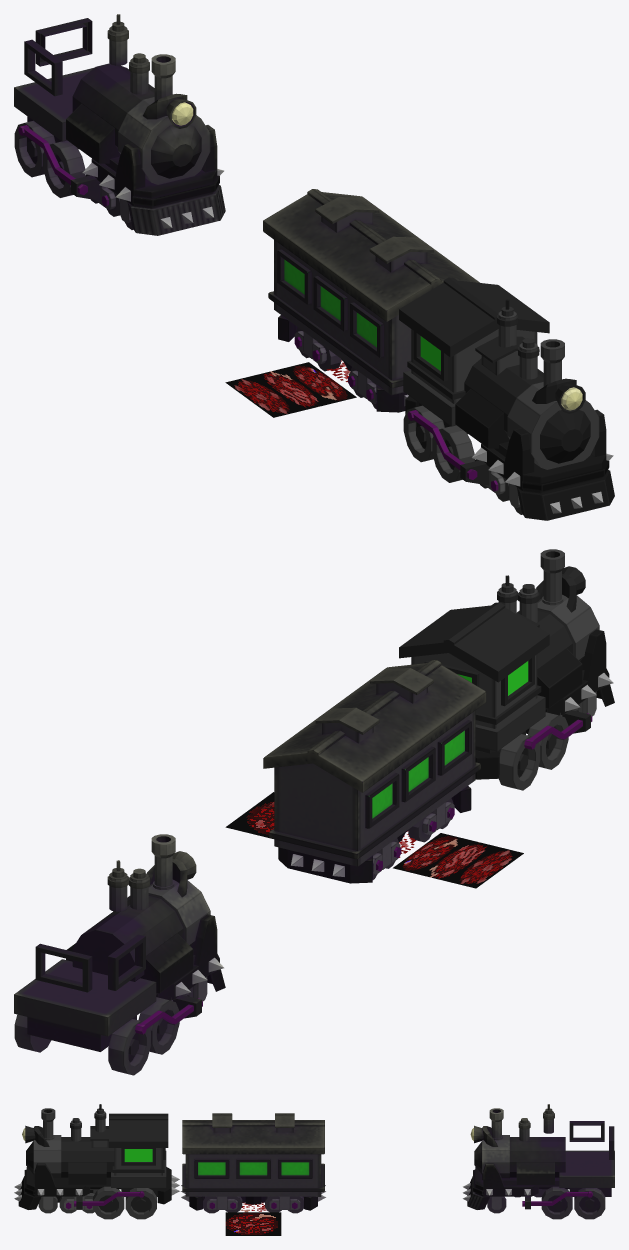
File: GhostTrainCarriageModel.fbx
The picture shows the model from 3 angles, top to bottom: view 1: azimuth 30°, elevation 25°; view 2: azimuth 150°, elevation 25°; view 3: azimuth 270°, elevation 25°; orthographic projection. The views are drawn at different scales.
Parts seen in each view (by area): view 1: cylinder, MDL_GhostTrain, MDL_GhostTrainCarriage, plane; view 2: MDL_GhostTrainCarriage, MDL_GhostTrain, cylinder, plane, plane_2; view 3: cylinder, MDL_GhostTrainCarriage, MDL_GhostTrain, plane_2.
Part boxes in pixels (bbox=[...]): cylinder: bbox=[399, 277, 614, 520]; MDL_GhostTrain: bbox=[14, 14, 225, 235]; MDL_GhostTrainCarriage: bbox=[263, 189, 479, 412]; plane: bbox=[225, 362, 356, 417]; MDL_GhostTrainCarriage: bbox=[263, 660, 486, 883]; MDL_GhostTrain: bbox=[14, 834, 225, 1075]; cylinder: bbox=[399, 549, 614, 790]; plane: bbox=[393, 833, 523, 888]; plane_2: bbox=[225, 792, 274, 837]; cylinder: bbox=[14, 1104, 179, 1219]; MDL_GhostTrainCarriage: bbox=[181, 1113, 325, 1213]; MDL_GhostTrain: bbox=[463, 1104, 614, 1219]; plane_2: bbox=[225, 1212, 281, 1235].
Bounding box in the file's own units: 300 × 197 × 1080.
